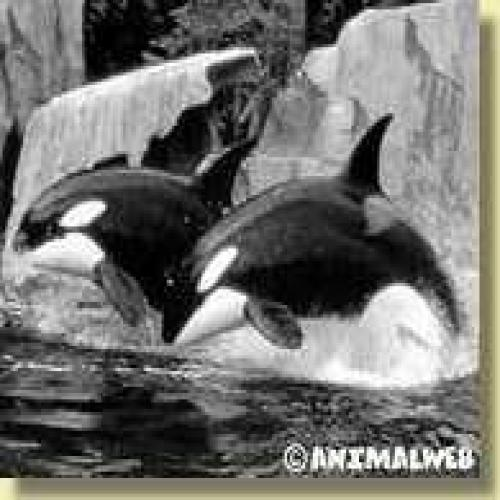killer_whale-endangered: (172, 107, 468, 385), (7, 122, 265, 321)
